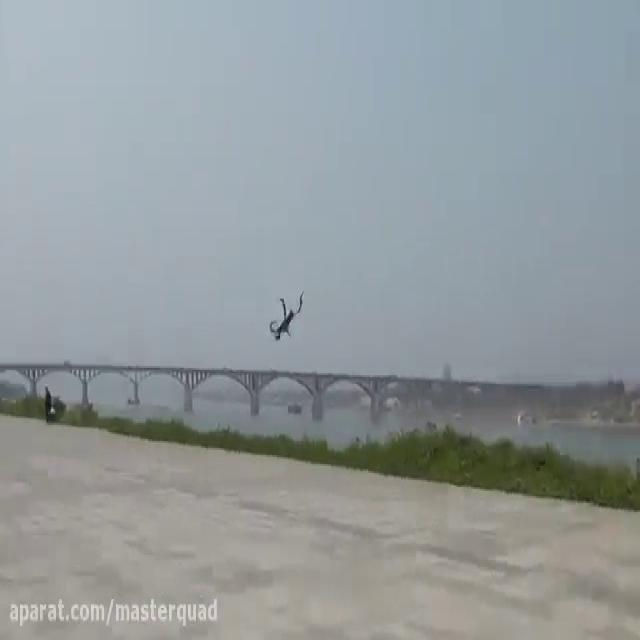drone: (265, 280, 308, 342)
